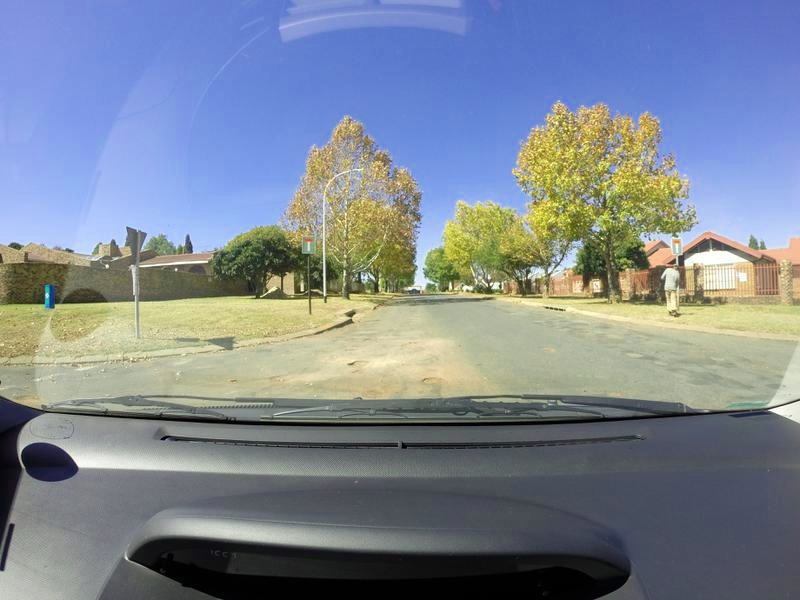pothole: (418, 373, 465, 392), (348, 360, 374, 376)
